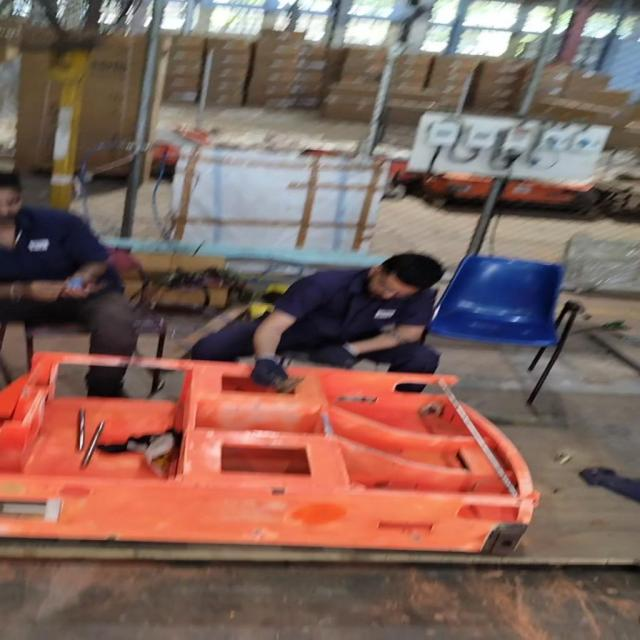Gloves-Detection: (255, 356, 293, 385), (316, 347, 356, 370)
